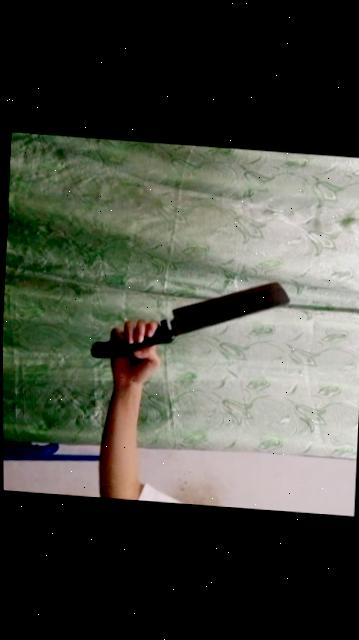long knife: (85, 264, 292, 375)
